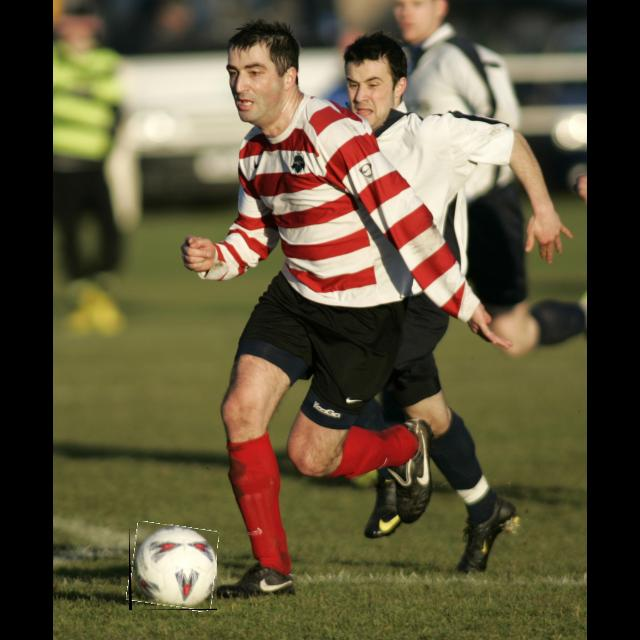Football: (129, 524, 217, 610)
